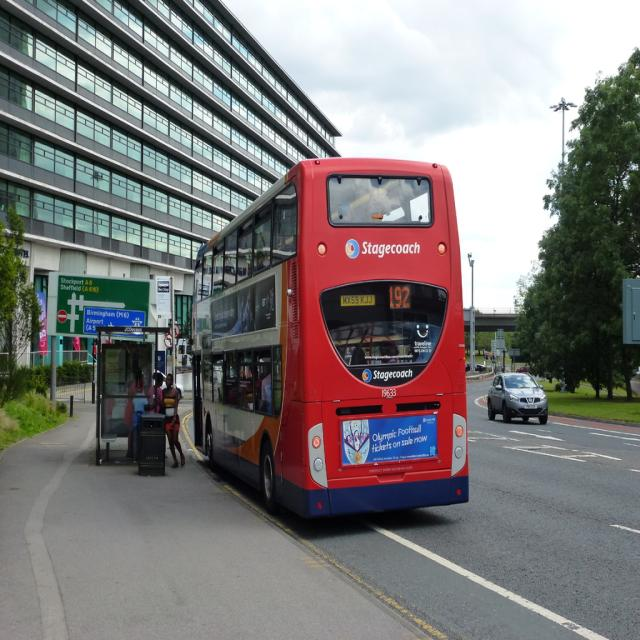Buses: (190, 160, 474, 518)
Passenger Car: (487, 371, 552, 425)
Pedestrians: (162, 371, 185, 471)
